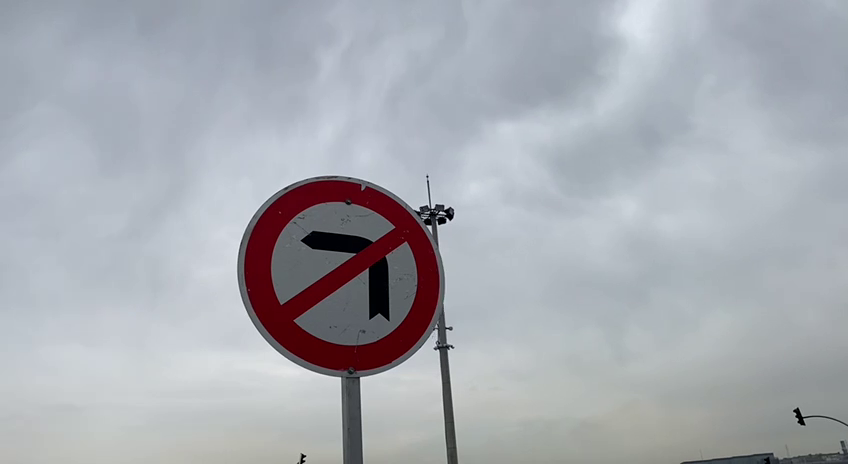noTurnLeft: (229, 169, 450, 381)
